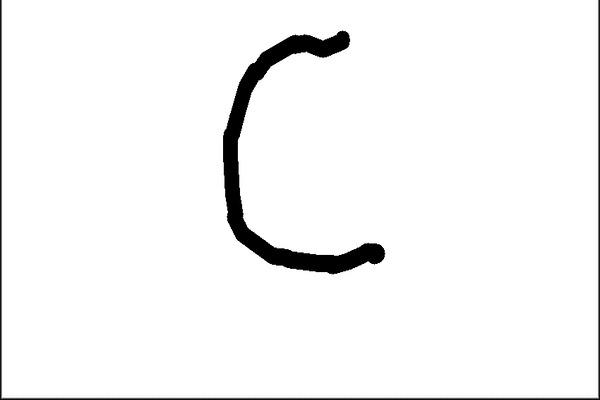C: (212, 20, 395, 276)
